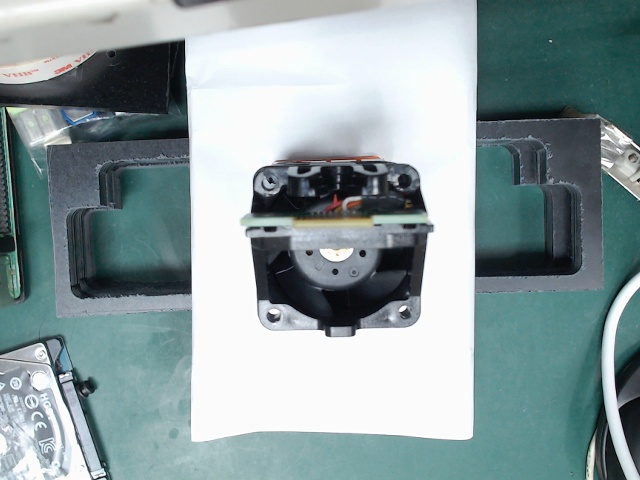Phase1_panel_screw_missing: (217, 195, 310, 254), (372, 202, 444, 261)
Phase1_screw_missing: (246, 299, 320, 383), (377, 291, 441, 360), (236, 142, 301, 205)
